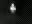person: (11, 4, 18, 15)
